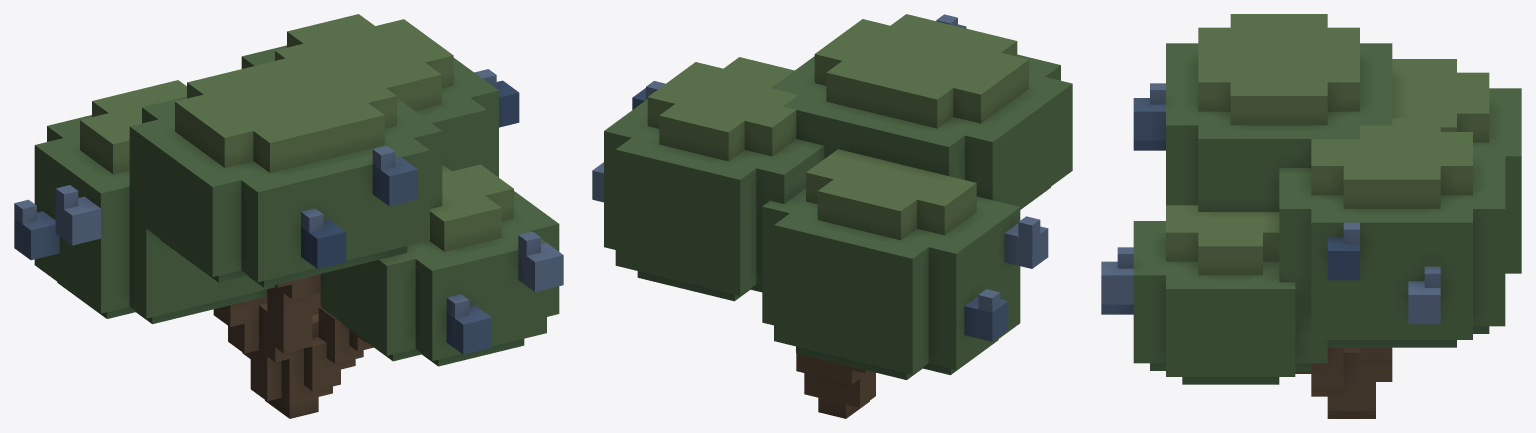
File: blueberry_summer.glb
3 renders of one model, left to right at view 1: azimuth 30°, elevation 25°; view 2: azimuth 150°, elevation 25°; view 3: azimuth 270°, elevation 25°, orthographic. The views are drawn at different scales.
Visible parts, largest first — view 1: VoxelVisual; view 2: VoxelVisual; view 3: VoxelVisual.
Part boxes in pixels (x1=…): VoxelVisual: x1=14, y1=14, x2=563, y2=418; VoxelVisual: x1=592, y1=14, x2=1072, y2=418; VoxelVisual: x1=1101, y1=14, x2=1521, y2=418.
Size of what is drawn, in the model's own units: 1.88 by 1.44 by 1.62.
